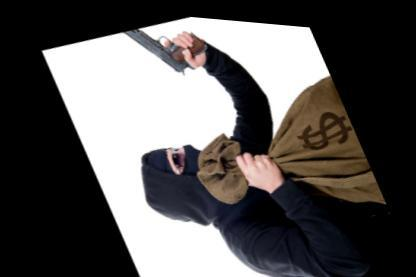pistol: (116, 8, 222, 89)
